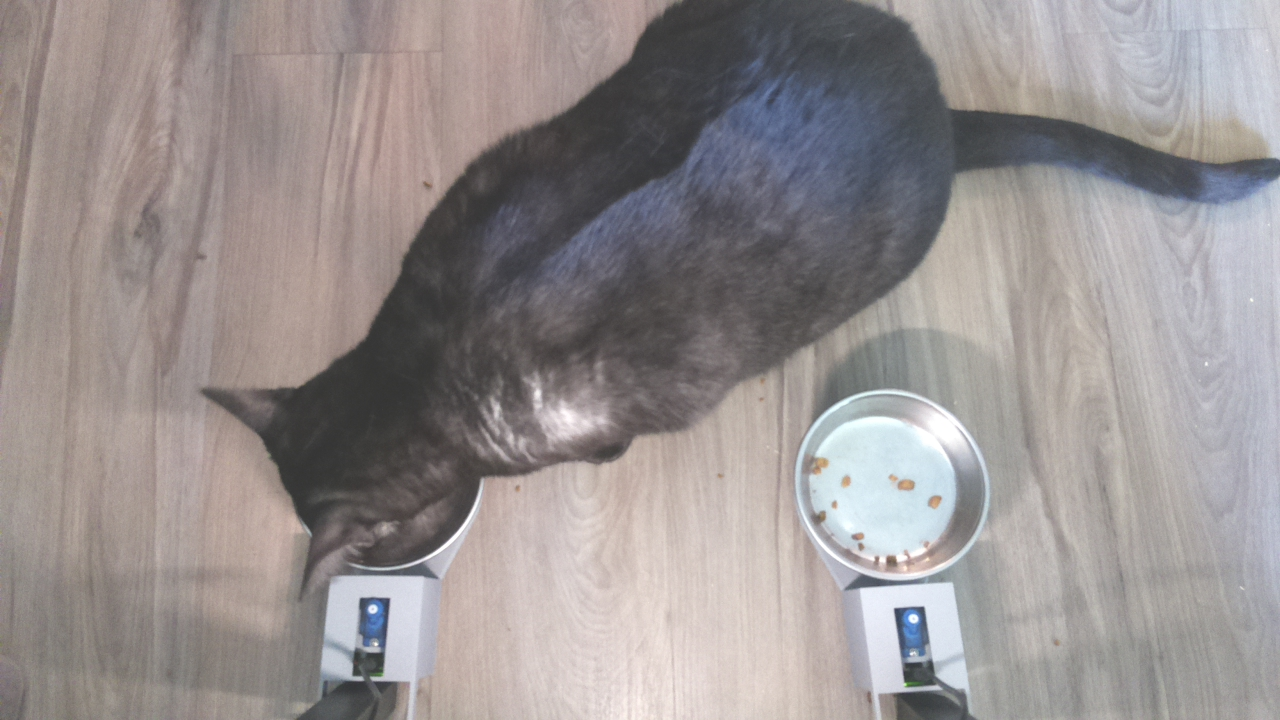open_bowl: (787, 383, 995, 585)
saki_eating: (185, 309, 507, 613)
